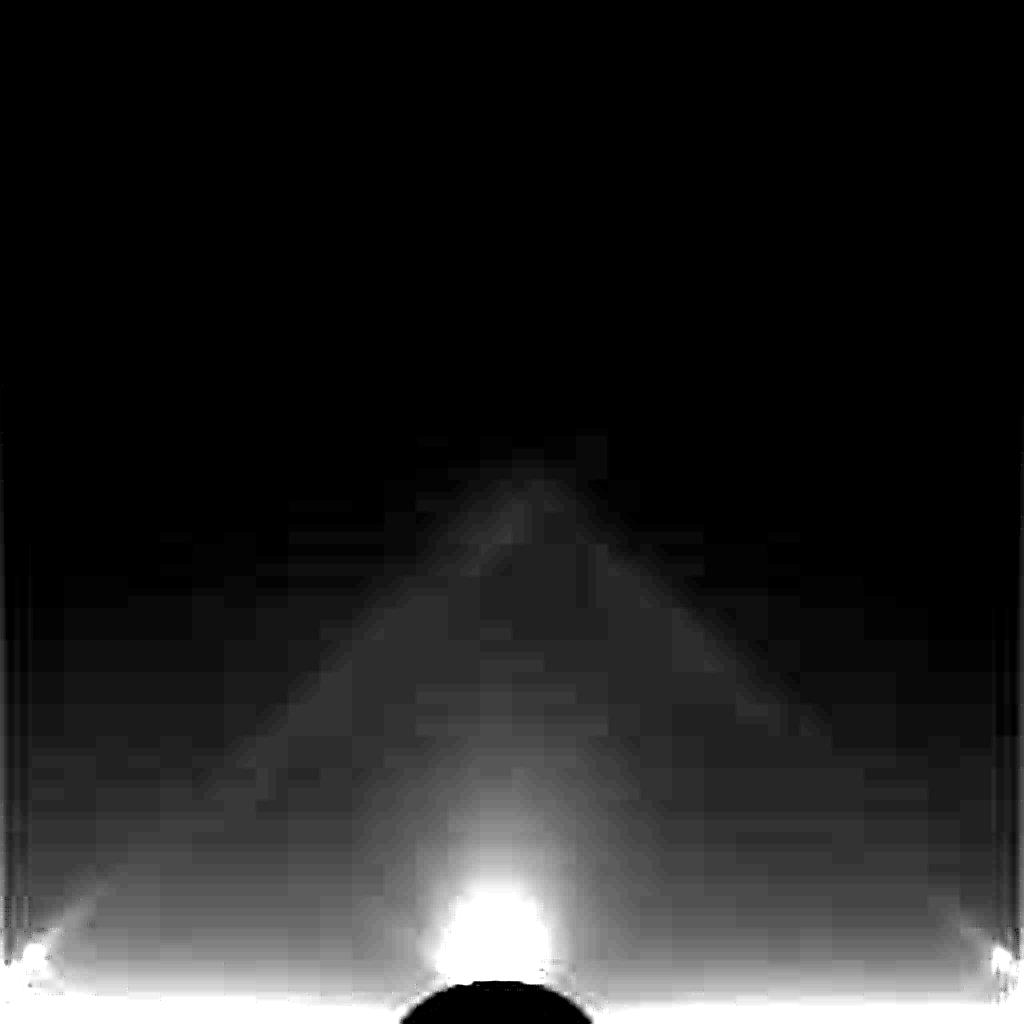plumes: (436, 880, 550, 983)
